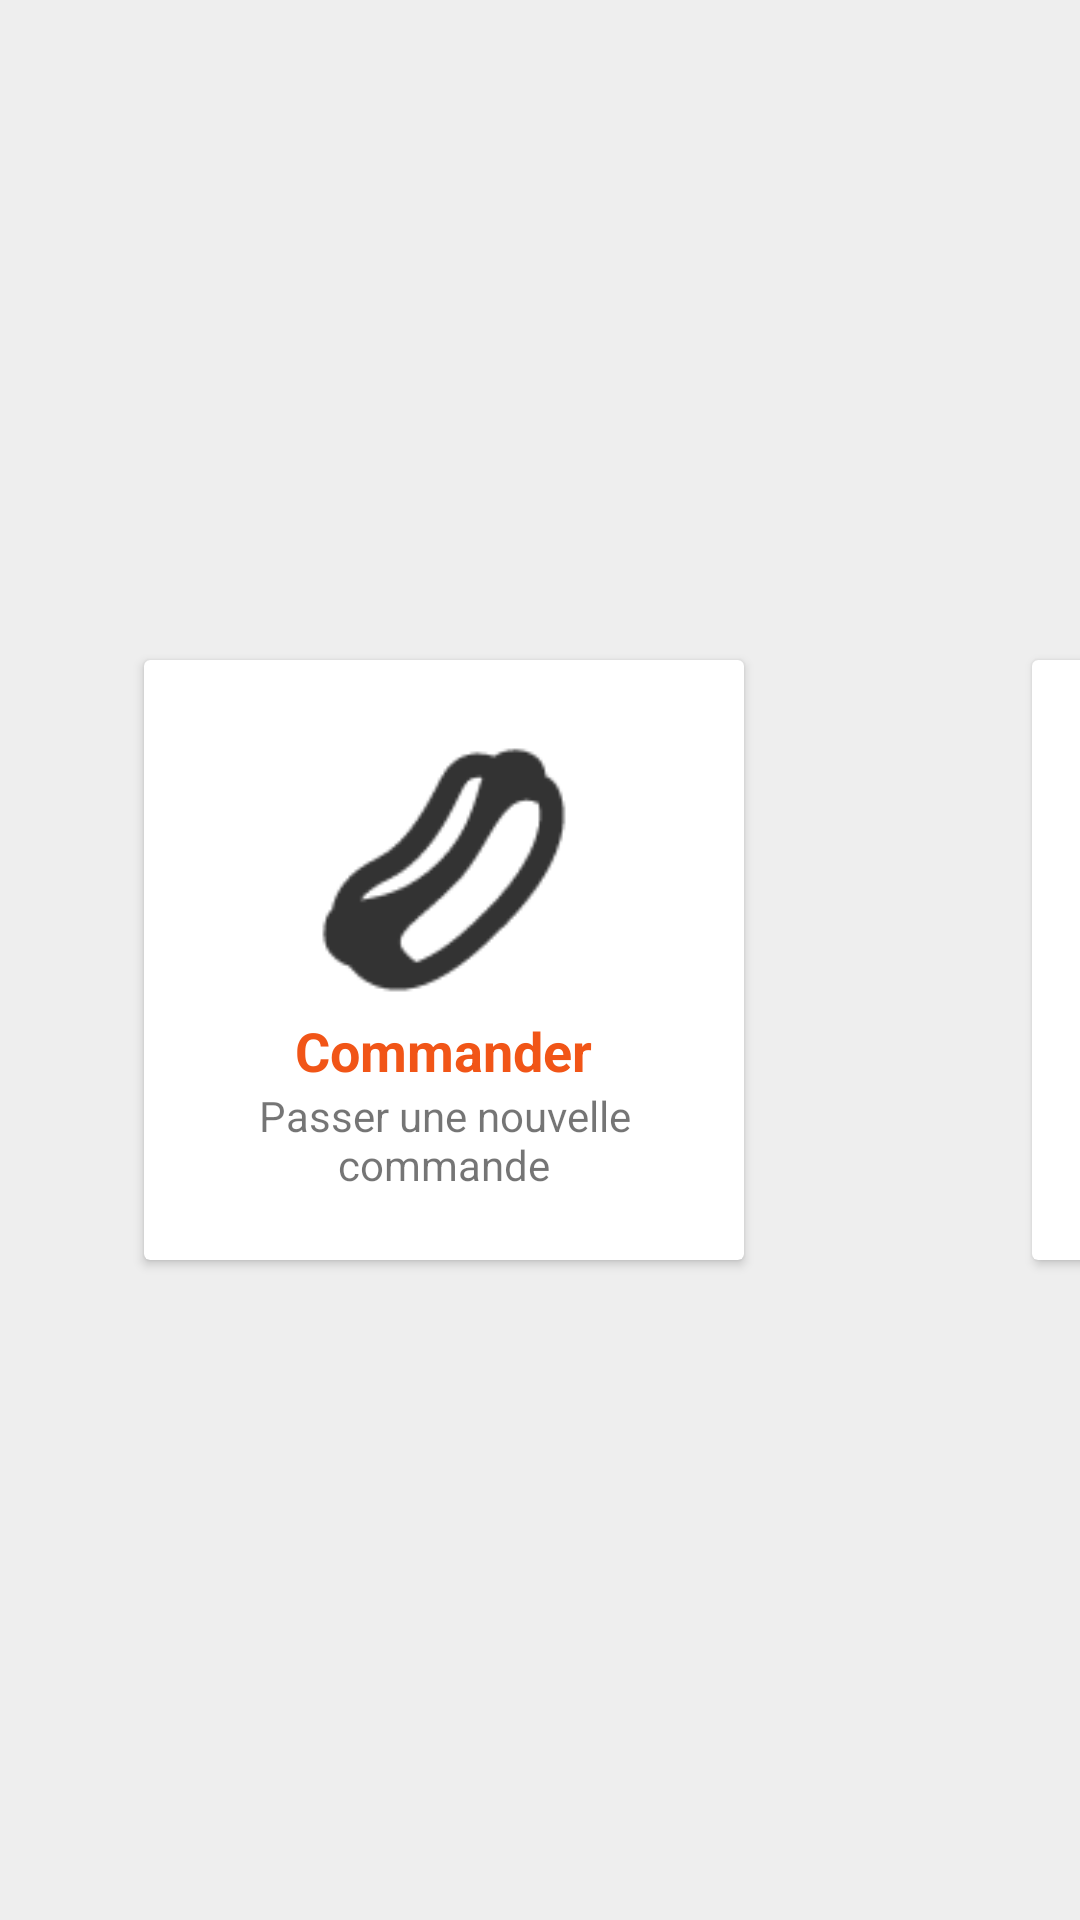

Locate icon controls on the screen. Image size 1080x1920, boxes as (x1=x1, y1=y1, x2=x2, y2=y2).
hot dog: (x1=322, y1=748, x2=566, y2=992)
